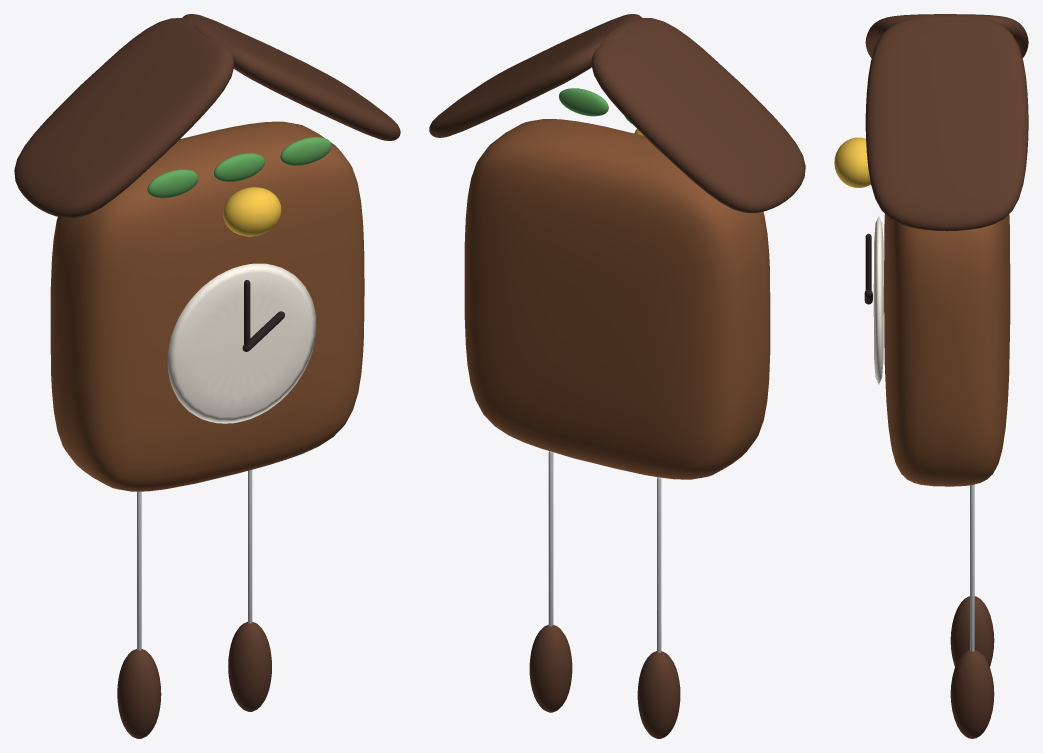
The model's file is deco_reloj_cucu.glb.
3 views of the same model, side by side, from view 1: azimuth 30°, elevation 25°; view 2: azimuth 150°, elevation 25°; view 3: azimuth 270°, elevation 25° (orthographic). The views are drawn at different scales.
Visible parts, largest first — view 1: casita cucú.001, techo cucú -1.001, carátula.001, techo cucú 1.001, piña 1.001, piña 0.001, pajarito.001, hoja cucú 0.001, hoja cucú 1.001, hoja cucú 2.001, cadena 0.001, cadena 1.001; view 2: casita cucú.001, techo cucú -1.001, techo cucú 1.001, piña 0.001, piña 1.001, hoja cucú 2.001, cadena 1.001, cadena 0.001; view 3: techo cucú 1.001, casita cucú.001, piña 1.001, piña 0.001, techo cucú -1.001, carátula.001, pajarito.001, cadena 1.001, aguja m.001.
Part boxes in pixels (x1,y1,x2,y2): casita cucú.001: [50, 121, 364, 491]; techo cucú -1.001: [14, 18, 234, 218]; carátula.001: [167, 263, 316, 423]; techo cucú 1.001: [182, 14, 400, 140]; piña 1.001: [228, 621, 271, 711]; piña 0.001: [117, 649, 161, 738]; pajarito.001: [223, 187, 281, 236]; hoja cucú 0.001: [147, 169, 198, 198]; hoja cucú 1.001: [214, 153, 264, 181]; hoja cucú 2.001: [280, 137, 331, 165]; cadena 0.001: [137, 491, 141, 650]; cadena 1.001: [248, 470, 252, 623]; casita cucú.001: [464, 119, 770, 479]; techo cucú -1.001: [591, 18, 805, 212]; techo cucú 1.001: [429, 14, 641, 137]; piña 0.001: [637, 651, 680, 738]; piña 1.001: [529, 625, 572, 712]; hoja cucú 2.001: [559, 88, 608, 116]; cadena 1.001: [548, 451, 553, 626]; cadena 0.001: [657, 477, 661, 652]; techo cucú 1.001: [865, 14, 1028, 231]; casita cucú.001: [884, 214, 1010, 486]; piña 1.001: [950, 649, 994, 738]; piña 0.001: [950, 596, 994, 666]; techo cucú -1.001: [865, 14, 1028, 57]; carátula.001: [873, 215, 883, 384]; pajarito.001: [834, 137, 870, 187]; cadena 1.001: [970, 484, 974, 651]; aguja m.001: [865, 233, 871, 290].
Bounding box in the file's own units: 0.315 × 0.6066 × 0.1536.
